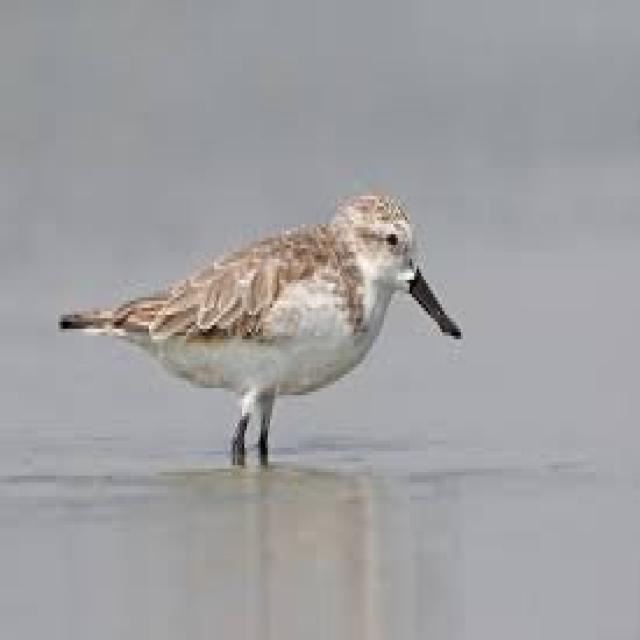Sandpiper: (46, 188, 467, 466)
